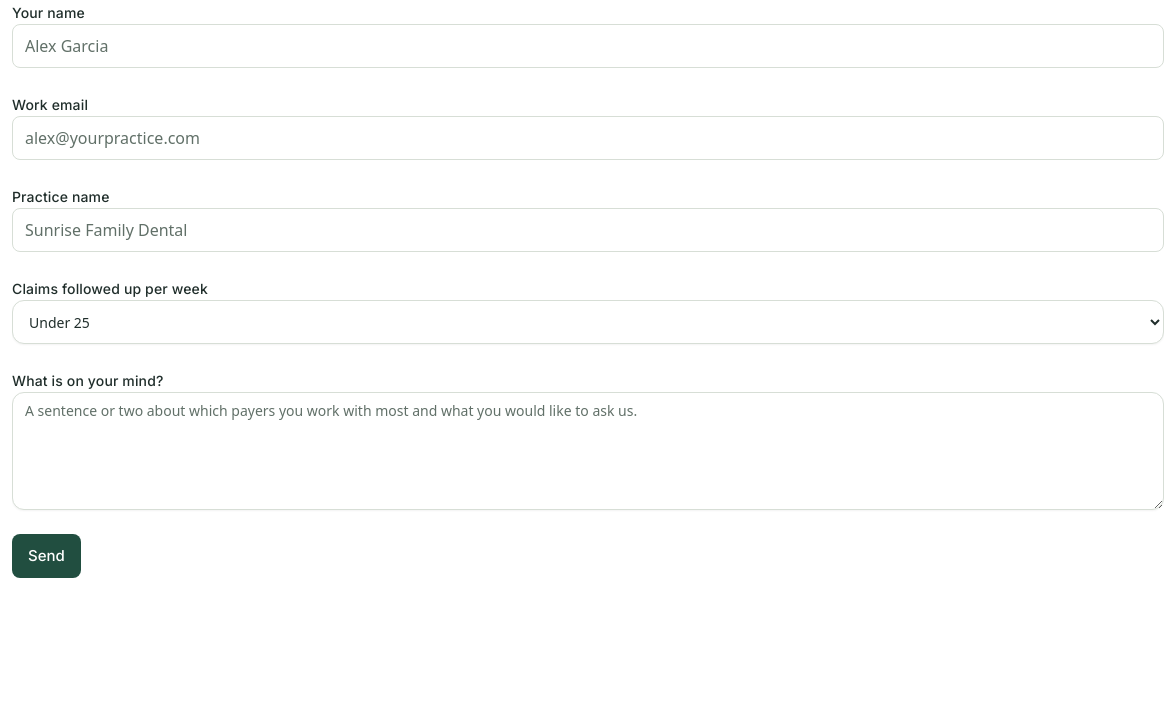
Test case: <ContactForm /> › shows inline validation errors when submitting empty
What coordinates should you click on to do the following:
click the button "Send"
I would click on:
 (46, 556)
Its box is x1=12 y1=534 x2=81 y2=578.
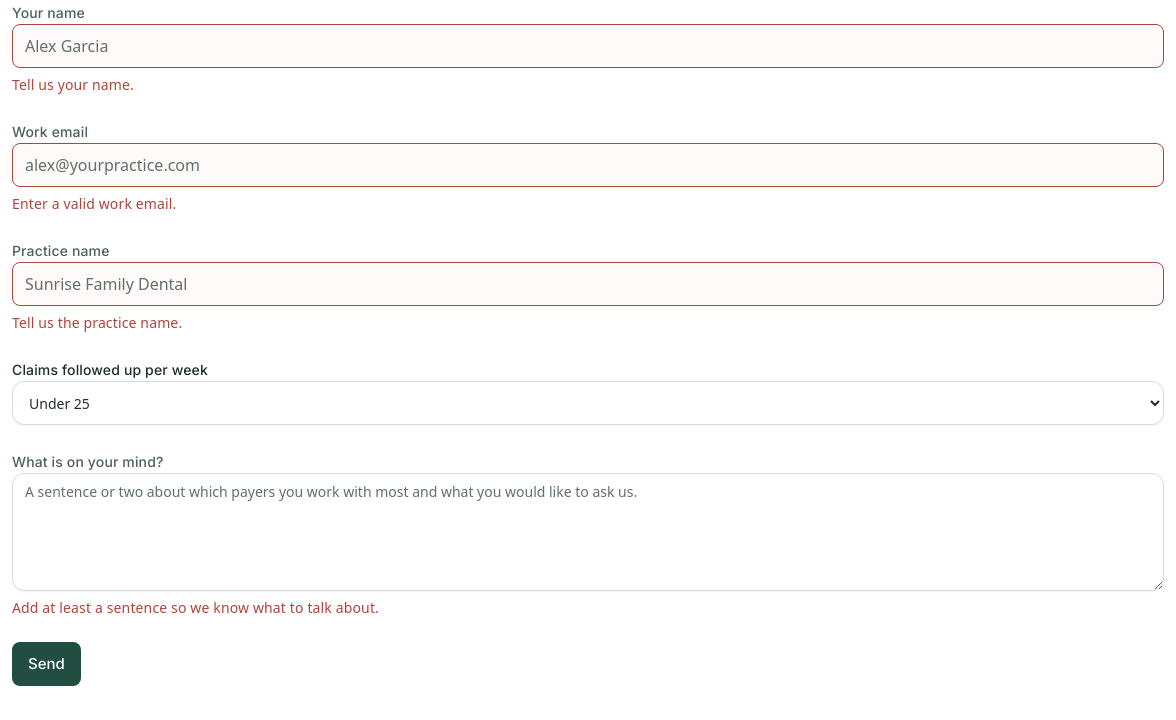
Expected: the text "Tell us your name." is shown, x1=12 y1=75 x2=134 y2=94
Expected: the text "Enter a valid work email." is shown, x1=12 y1=194 x2=176 y2=213
Expected: the text "Tell us the practice name." is shown, x1=12 y1=313 x2=182 y2=332
